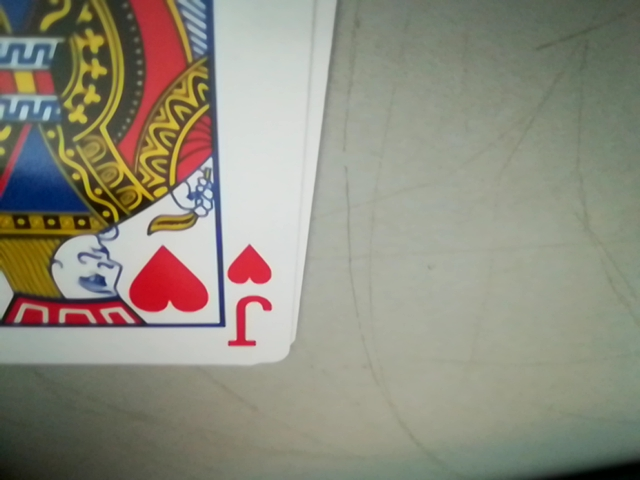hx j: (221, 236, 277, 355)
